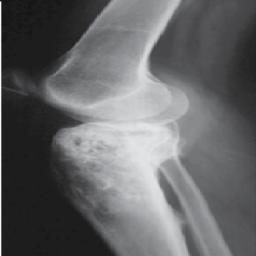cancer: (50, 119, 179, 213)
